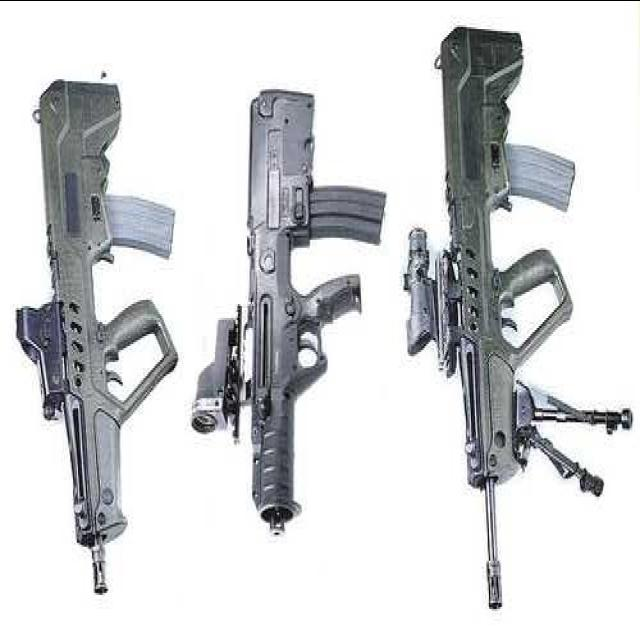heavyweapon: (387, 1, 616, 609), (164, 35, 392, 603), (1, 25, 199, 619)
